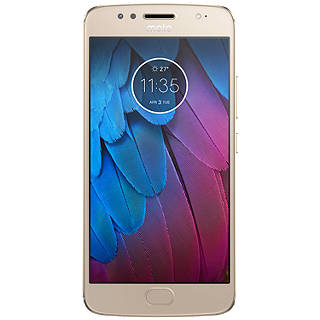mobile: (76, 4, 238, 313)
